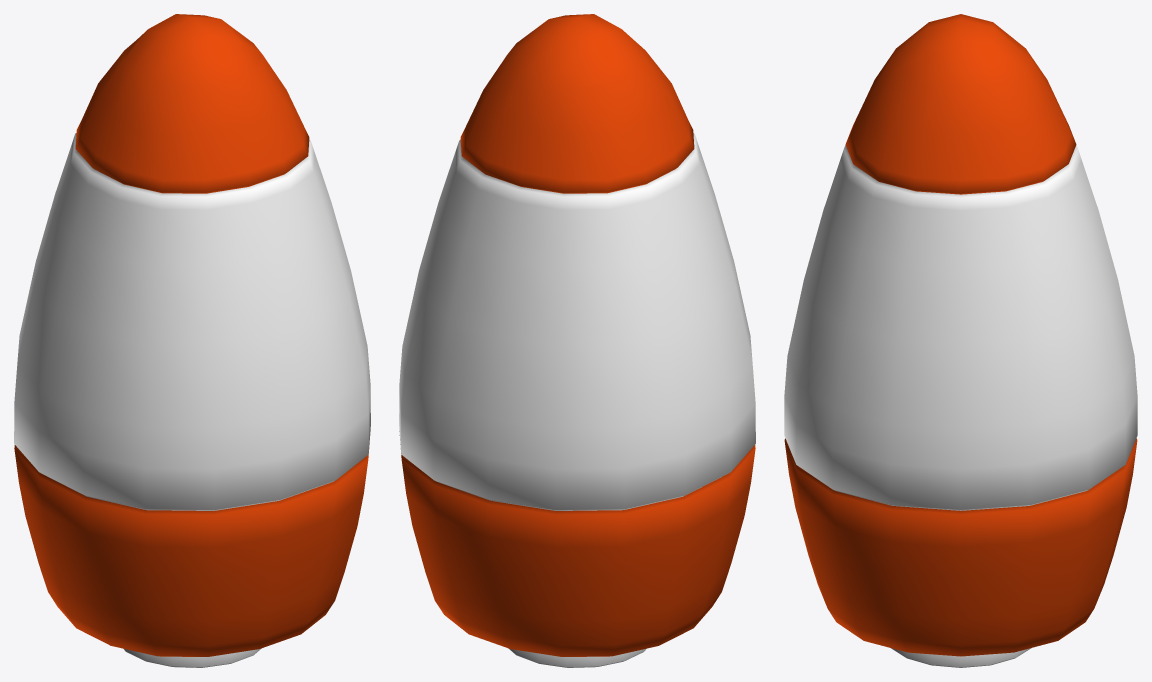
Rendered from uploads_files_3153967_Cartoon+Rocket.glb.
3 renders of one model, left to right at view 1: azimuth 30°, elevation 25°; view 2: azimuth 150°, elevation 25°; view 3: azimuth 270°, elevation 25°, orthographic.
Visible parts, largest first — view 1: Cube; view 2: Cube; view 3: Cube.
Part boxes in pixels (x1=…): Cube: x1=14, y1=14, x2=370, y2=667; Cube: x1=399, y1=14, x2=755, y2=667; Cube: x1=784, y1=14, x2=1137, y2=667.
Bounding box in the file's own units: 2.47 × 4.76 × 2.47.
